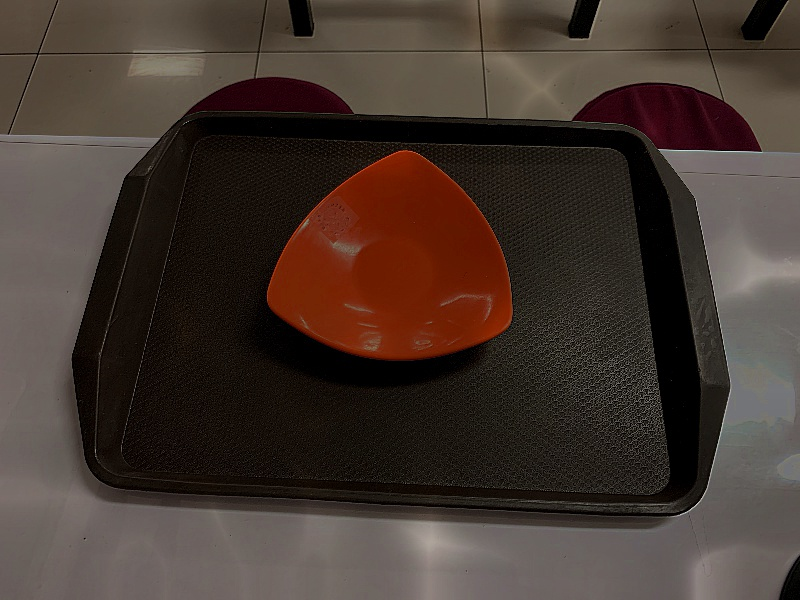dish11: (260, 148, 518, 365)
